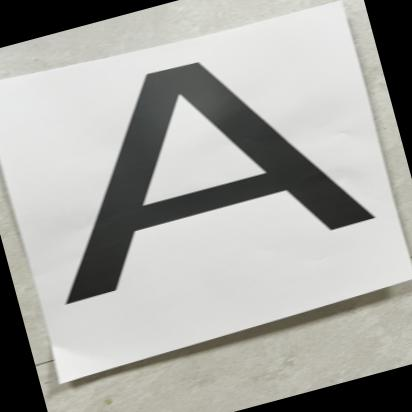seat: (8, 13, 390, 304)
